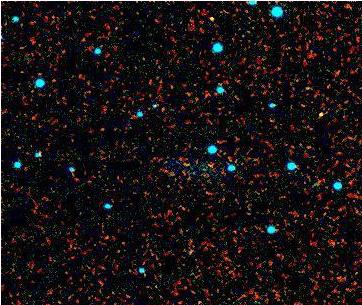star: (306, 100, 336, 130)
